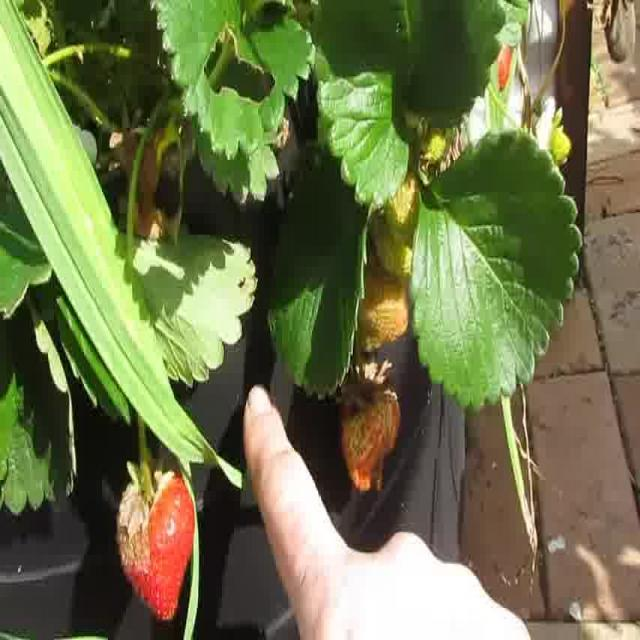Fruta sana: (340, 384, 402, 496), (350, 243, 411, 352), (368, 201, 420, 273), (383, 150, 423, 236), (482, 22, 518, 95)
Moho gris: (116, 466, 196, 623), (604, 0, 636, 65)
